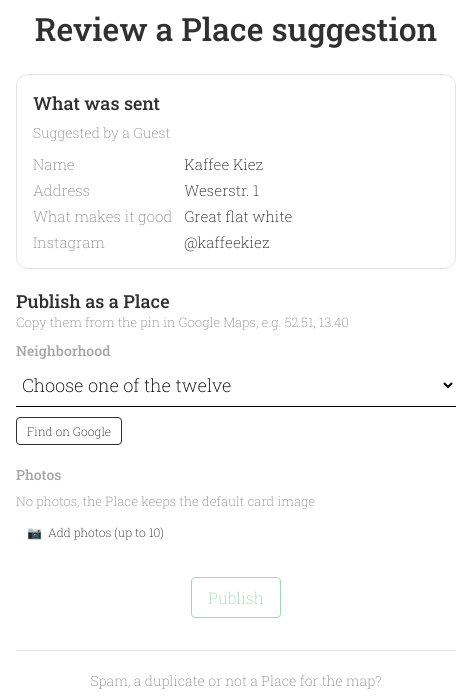
it: SuggestionReviewPage › Find on Google › says when the lookup failed
Click the button "Find on Google" at (69, 431), box [16,417,122,445]
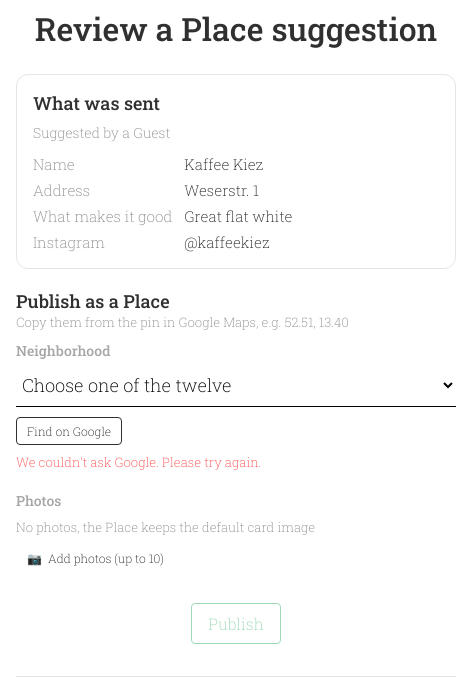
Check: the message shows "couldn't ask Google", box [16,453,262,471]
